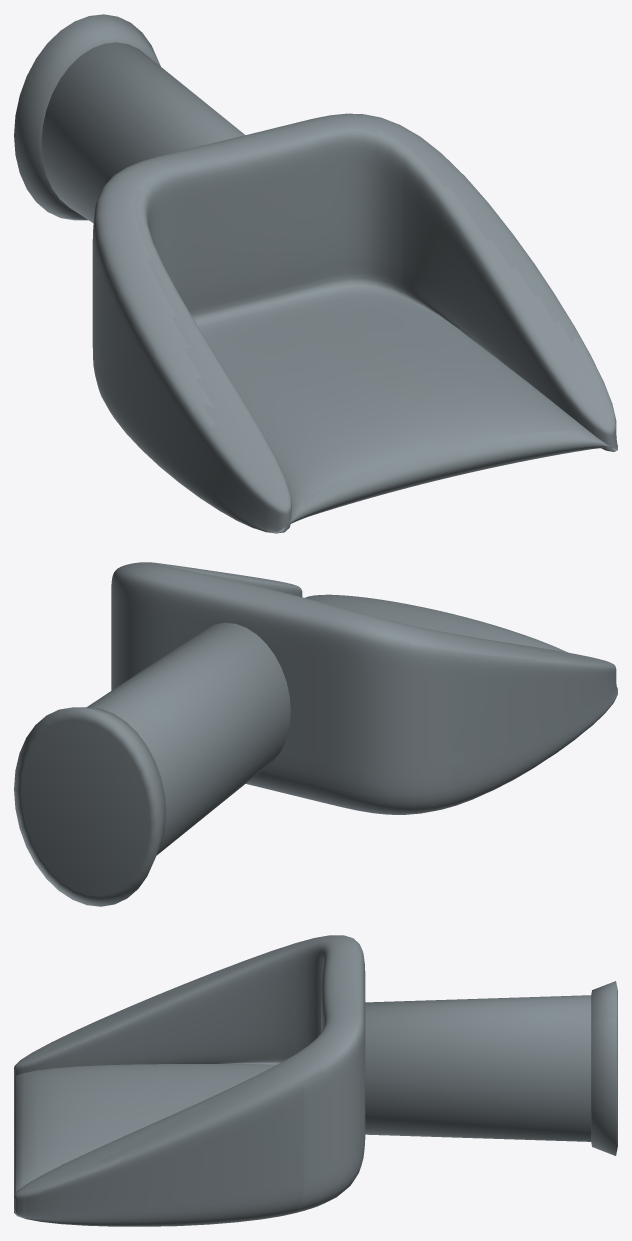
File: Scoop_Fix.fbx
3 views of the same model, one above another, from view 1: azimuth 30°, elevation 25°; view 2: azimuth 150°, elevation 25°; view 3: azimuth 270°, elevation 25° (orthographic). The views are drawn at different scales.
Visible parts, largest first — view 1: scoop; view 2: scoop; view 3: scoop.
Boxes of the visible parts, x1,y1,x2,y2 form: scoop: [14, 14, 617, 533]; scoop: [14, 562, 617, 906]; scoop: [14, 935, 617, 1226].
Size of the model in its own units: 75.62 by 41.55 by 126.
Materials: 1 (1 with a texture image).
